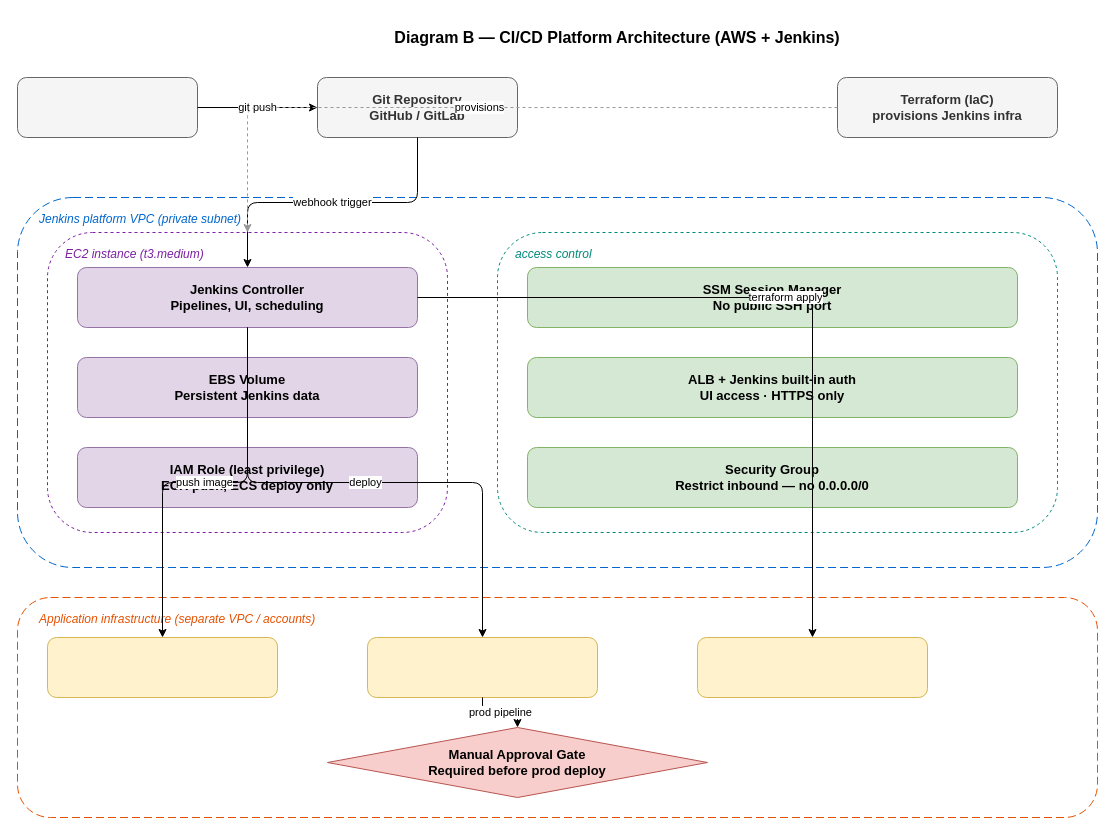
Some shapes in this 1115 by 835 pixel diagram are drawn without their labels. Each missing label, with the centre of its shape:
"Developer pushes code" goes at (107,107).
"ECR Docker image store" goes at (162,667).
"ECS Fargate dev + prod services" goes at (482,667).
"S3 + DynamoDB Remote Terraform state" goes at (812,667).
